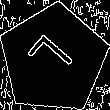L_SE: (24, 30, 82, 88)
